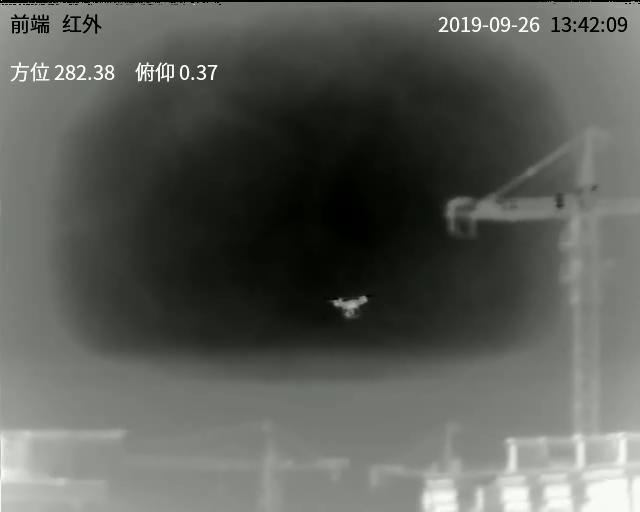uav: (330, 290, 369, 317)
